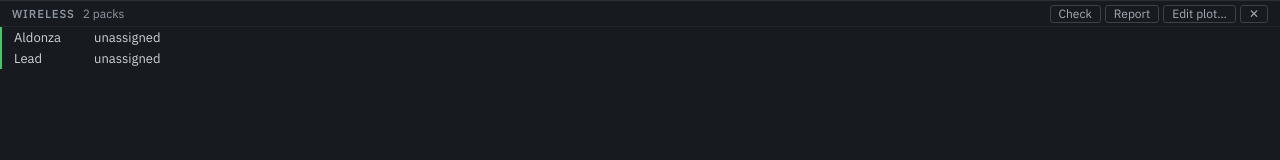
RfPanel › the check › is a button that swaps the list for the check and back, and says Live while it is open
Click the button with class "rf-btn" showing "Check" at (1075, 14), box 1050,4 -> 1101,22
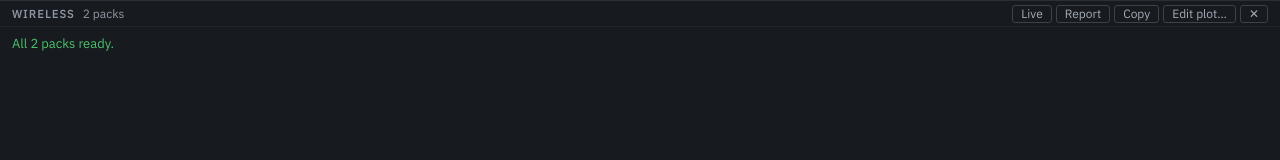
Result: the element with class "rf-check" is shown at 12,35 -> 114,52
Result: the element with class "rf-row" is gone
Click the button with class "rf-btn" showing "Live" at (1032, 14), box 1012,4 -> 1052,22
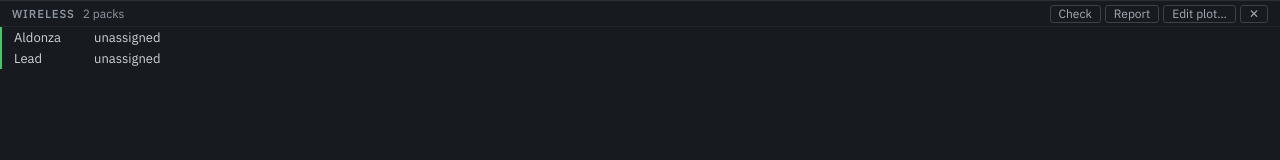
Result: the element with class "rf-check" is gone
Result: the number of elements with class "rf-row" is 2 at 0,27 -> 1279,48; 0,48 -> 1279,69
